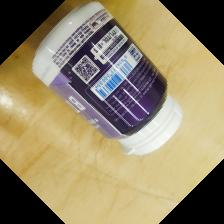Xylitol_BTS: (32, 1, 185, 160)
